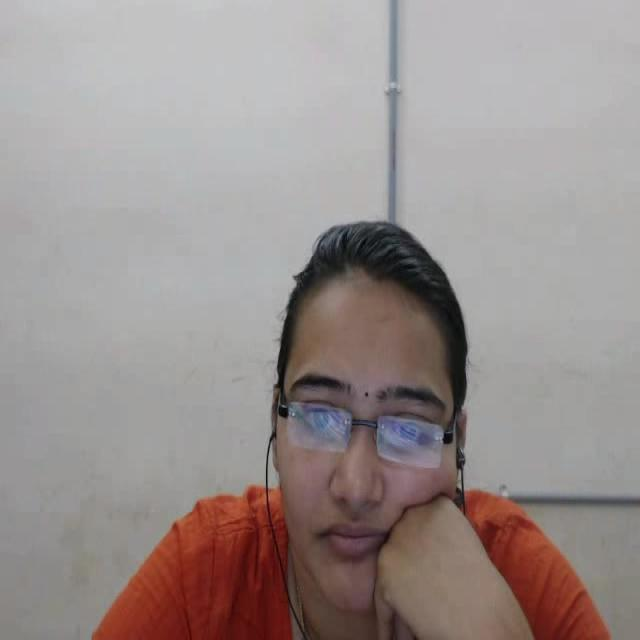Bored: (264, 202, 498, 640)
